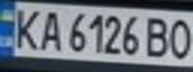1: (84, 10, 106, 54)
2: (103, 11, 124, 55)
6: (121, 12, 145, 56), (63, 9, 87, 53)
A: (36, 7, 63, 52)
B: (142, 14, 172, 58)
K: (9, 4, 42, 51)
O: (166, 15, 193, 61)
